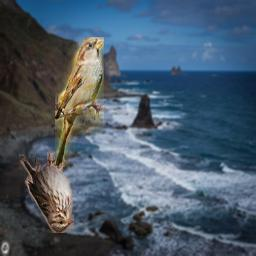Sparrow: (55, 37, 104, 167), (19, 152, 74, 233)
